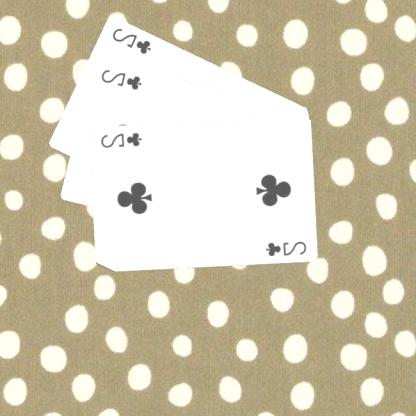2C: (111, 24, 154, 56), (99, 66, 145, 91), (99, 129, 145, 149), (264, 238, 310, 258)
